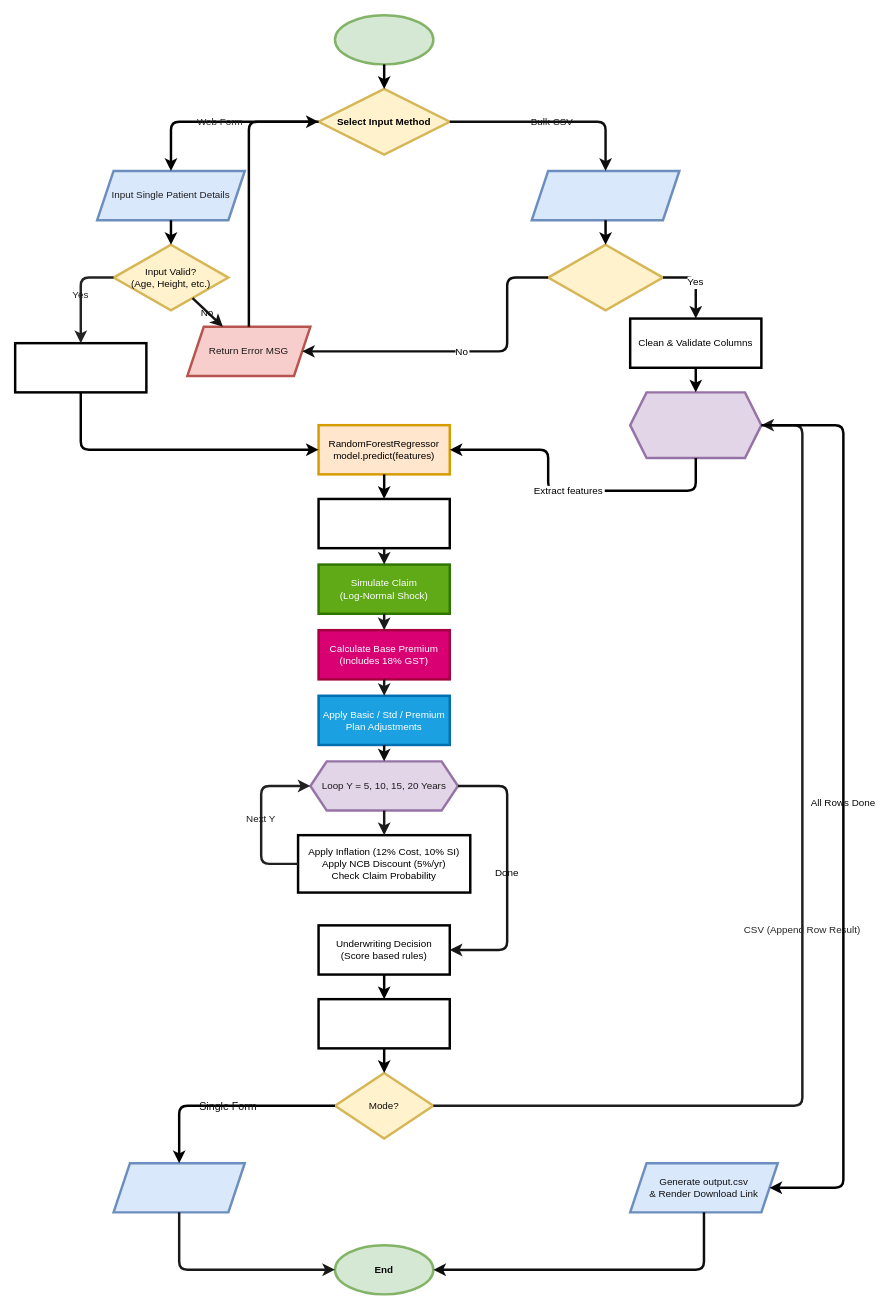
Some shapes in this 891 by 1310 pixel diagram are drawn without their labels. Each missing label, with the centre of its shape:
Adjust Risk (Disease, Alcohol, etc.): (x=384, y=523)
Calculate BMI & Encode Categorical Data: (x=80, y=367)
Calculate Required Coverage (12% inflation x 20 yrs): (x=384, y=1023)
For Each Row in df (Calculate BMI & Encode): (x=695, y=425)
Render op.html with Visual Results: (x=179, y=1187)
Start: (x=383, y=39)
Upload CSV File: (x=605, y=195)
Valid File? (.csv, <=1000 rows): (x=605, y=277)
